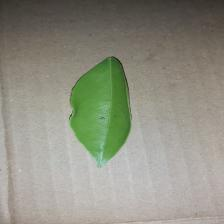healthy: (50, 56, 160, 168)
